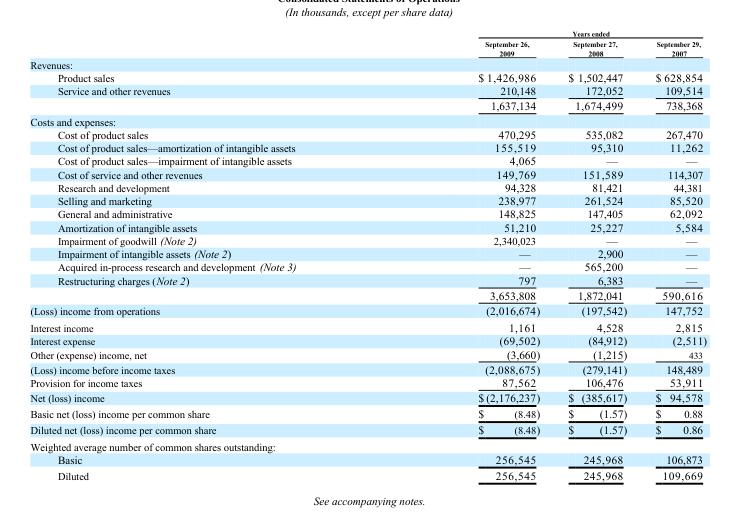table: (29, 29, 705, 481)
table column: (29, 29, 386, 481), (386, 29, 553, 481), (553, 29, 640, 481), (640, 29, 705, 481)
table column header: (29, 29, 705, 57)
table projected row header: (29, 113, 705, 127), (29, 438, 705, 452), (29, 57, 705, 70)
table row: (29, 38, 705, 57), (29, 421, 705, 438), (29, 97, 705, 113), (29, 302, 705, 318), (29, 389, 705, 405), (29, 405, 705, 421), (29, 287, 705, 302), (29, 318, 705, 333), (29, 452, 705, 467), (29, 83, 705, 97), (29, 113, 705, 127), (29, 153, 705, 167), (29, 206, 705, 220), (29, 246, 705, 260), (29, 273, 705, 287), (29, 333, 705, 347), (29, 347, 705, 361), (29, 361, 705, 375), (29, 375, 705, 389), (29, 438, 705, 452), (29, 467, 705, 481), (29, 57, 705, 70), (29, 70, 705, 83), (29, 127, 705, 140), (29, 140, 705, 153), (29, 167, 705, 180), (29, 180, 705, 193), (29, 193, 705, 206), (29, 220, 705, 233), (29, 233, 705, 246), (29, 260, 705, 273), (29, 29, 705, 38)
table spanning cell: (386, 29, 705, 38)
